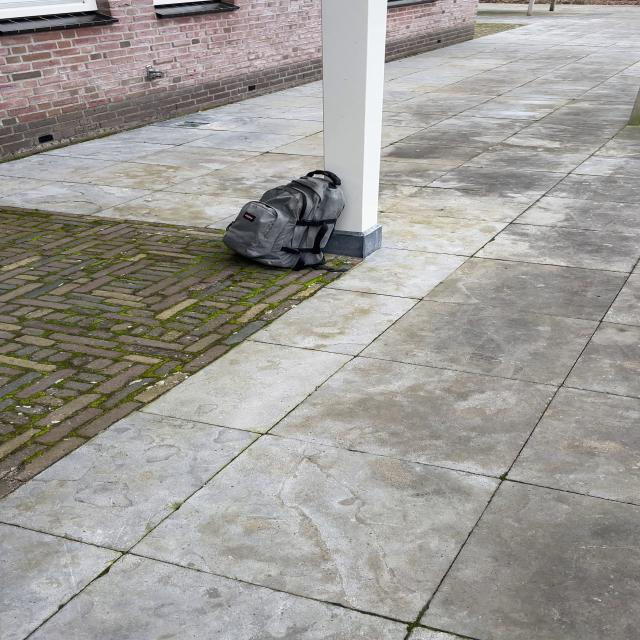backpack: (215, 169, 347, 273)
